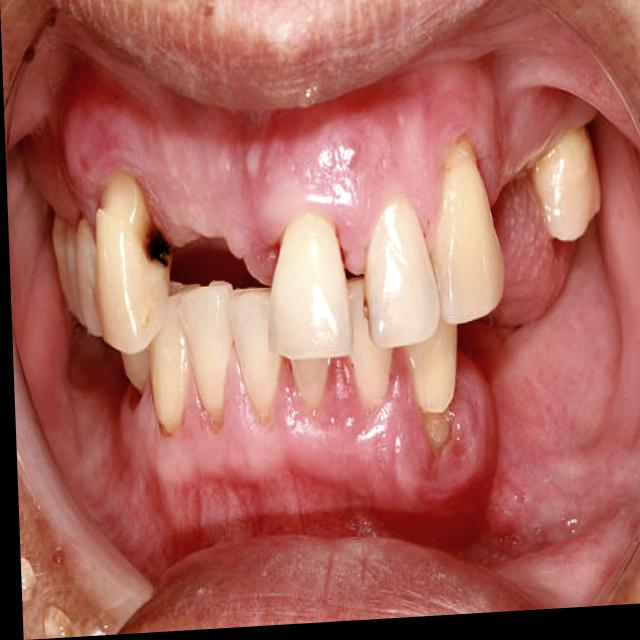gingivitis: (42, 66, 511, 281), (114, 356, 498, 524)
hypodontia: (49, 183, 352, 353)
